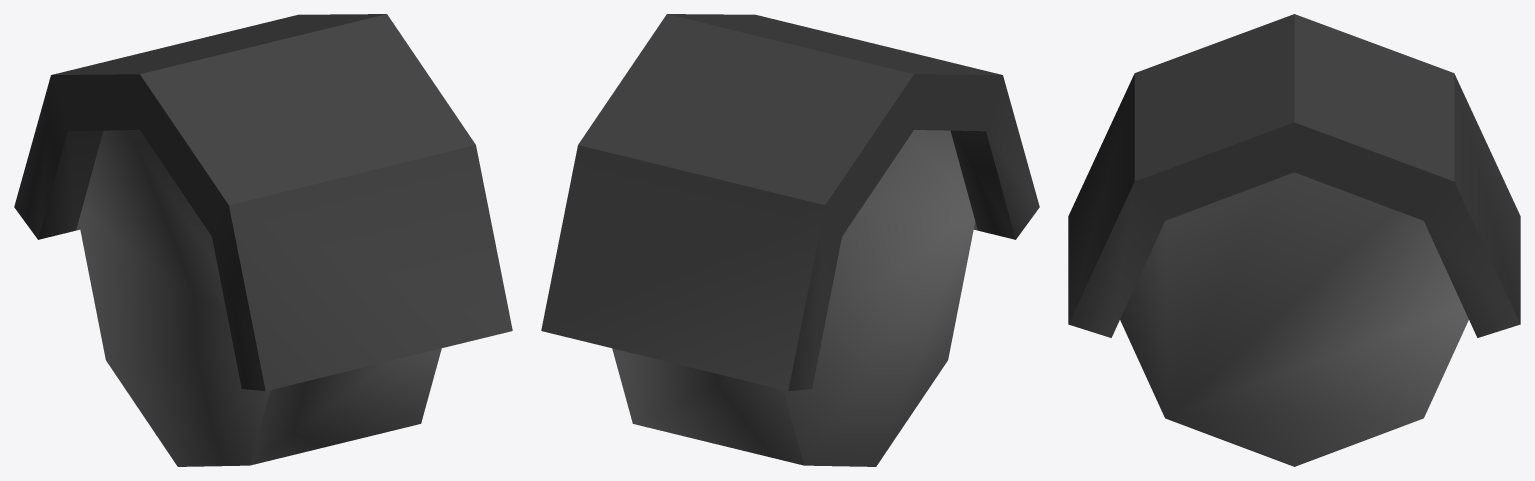
Rendered from Chair Wheel.fbx.
The picture shows the model from 3 angles, left to right: view 1: azimuth 30°, elevation 25°; view 2: azimuth 150°, elevation 25°; view 3: azimuth 270°, elevation 25°; orthographic projection. The views are drawn at different scales.
Parts seen in each view (by area): view 1: Chair Wheel; view 2: Chair Wheel; view 3: Chair Wheel.
Boxes of the visible parts, x1,y1,x2,y2 form: Chair Wheel: [14, 14, 512, 466]; Chair Wheel: [541, 14, 1039, 466]; Chair Wheel: [1068, 14, 1520, 466].
Bounding box in the file's own units: 6.11 × 9.5 × 10.78.
